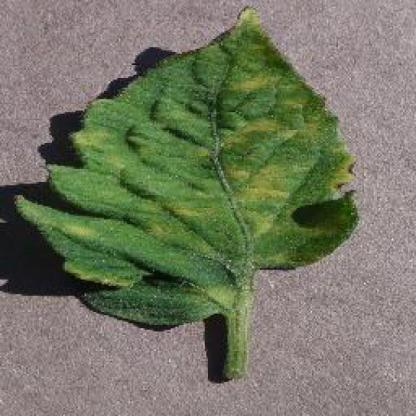Tomato_Leaf_Mold: (16, 5, 364, 330)
